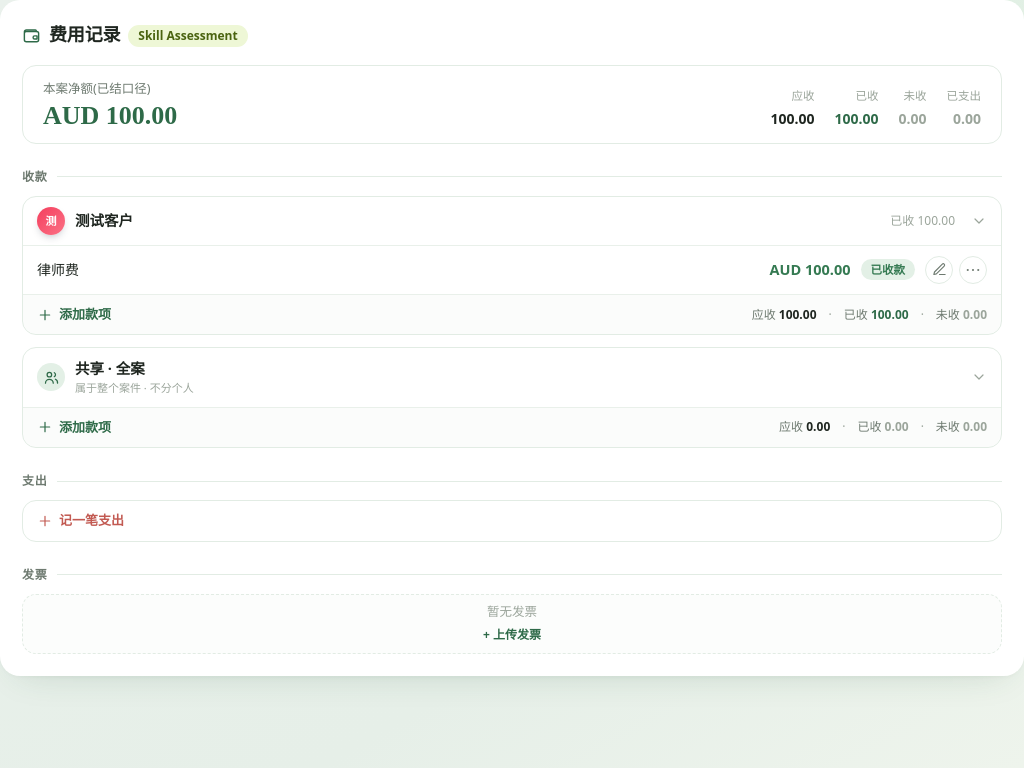
Test: CaseFeesCard（费用记录 · 极简行 + 悬停显操作 + ⋯ 菜单） › 收款明细走 ⋯ 菜单展开/收起逐笔收款列表（不再有行首 chevron）
Check: the text "本案净额(已结口径)" is shown, box [43,80,150,97]
Check: the text "2026-05-01" is not shown
Click the button named "款项操作". click: click(973, 270)
box: [959,256,987,284]
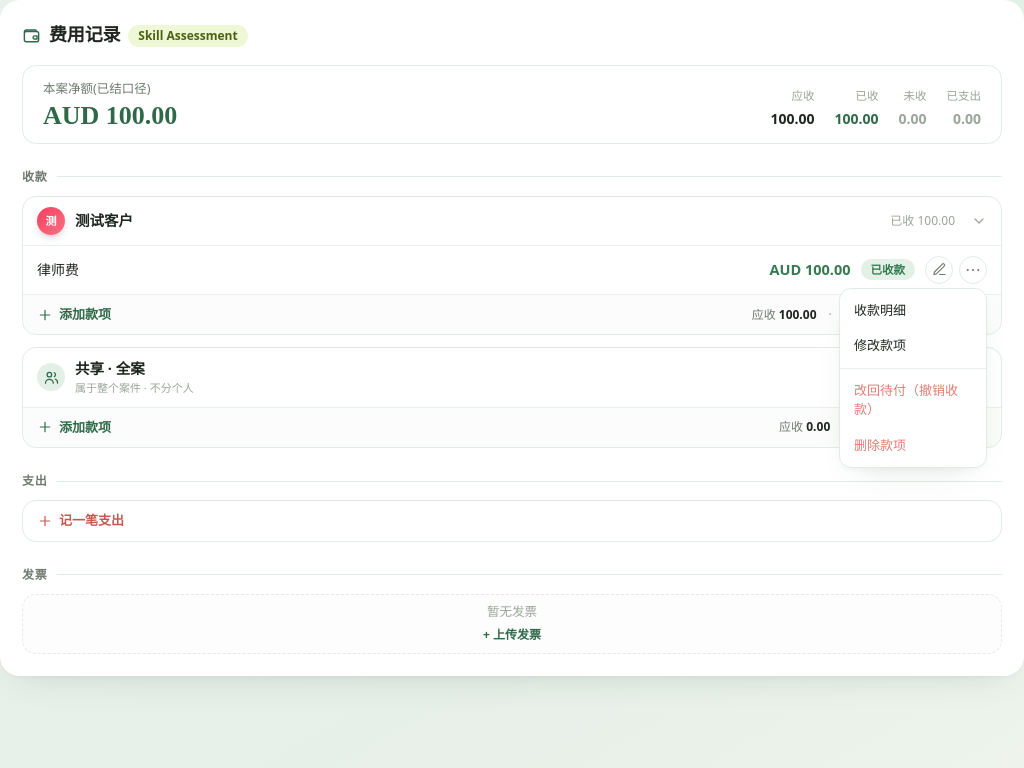
Click the menu item "收款明细". click: click(913, 311)
box: [840,293,986,328]
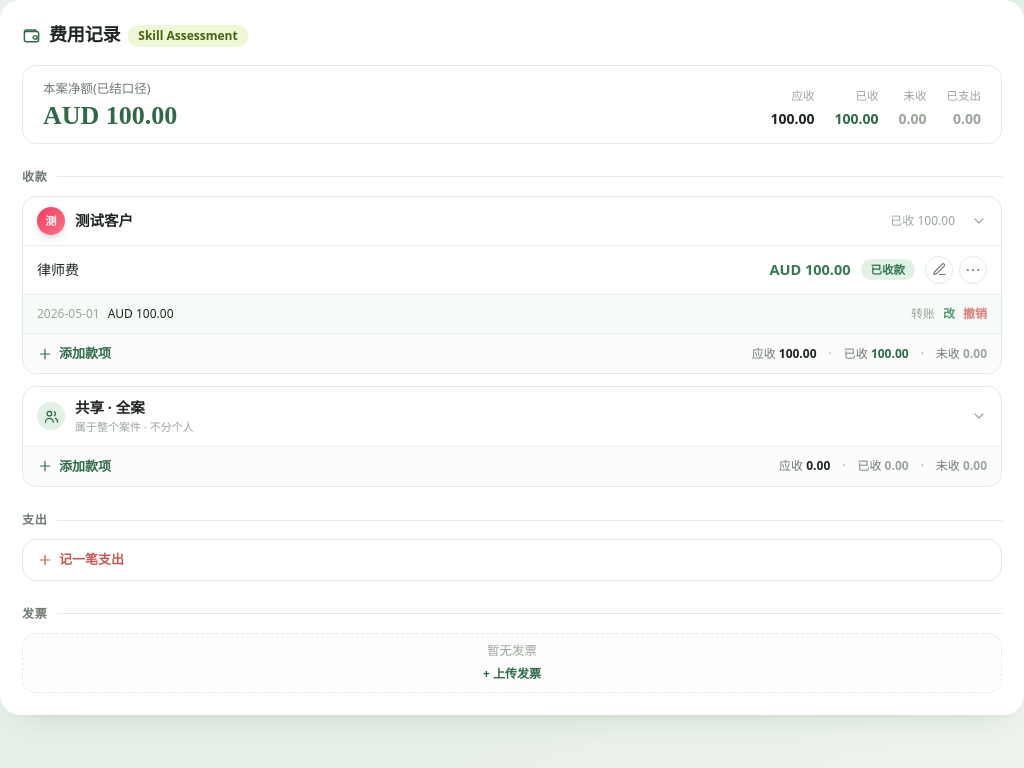
Check: the text "2026-05-01" is shown, box [37,305,100,323]
Click the button named "款项操作". click: click(973, 270)
box: [959,256,987,284]
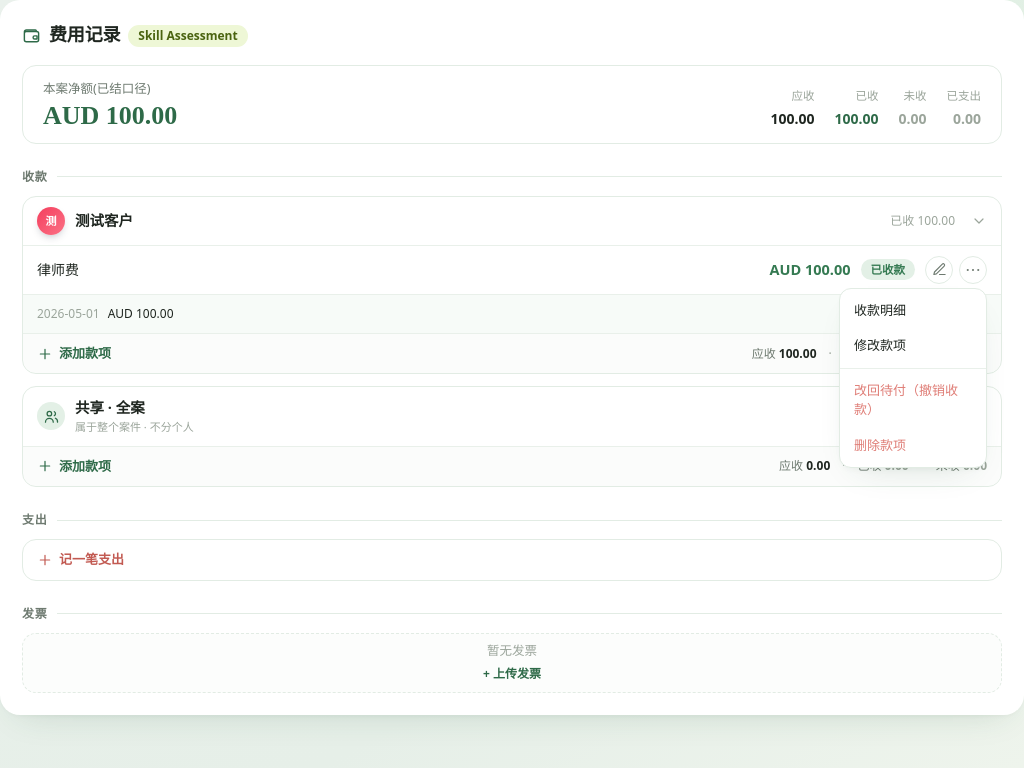
Click the menu item "收款明细". click: click(913, 311)
box: [840,293,986,328]
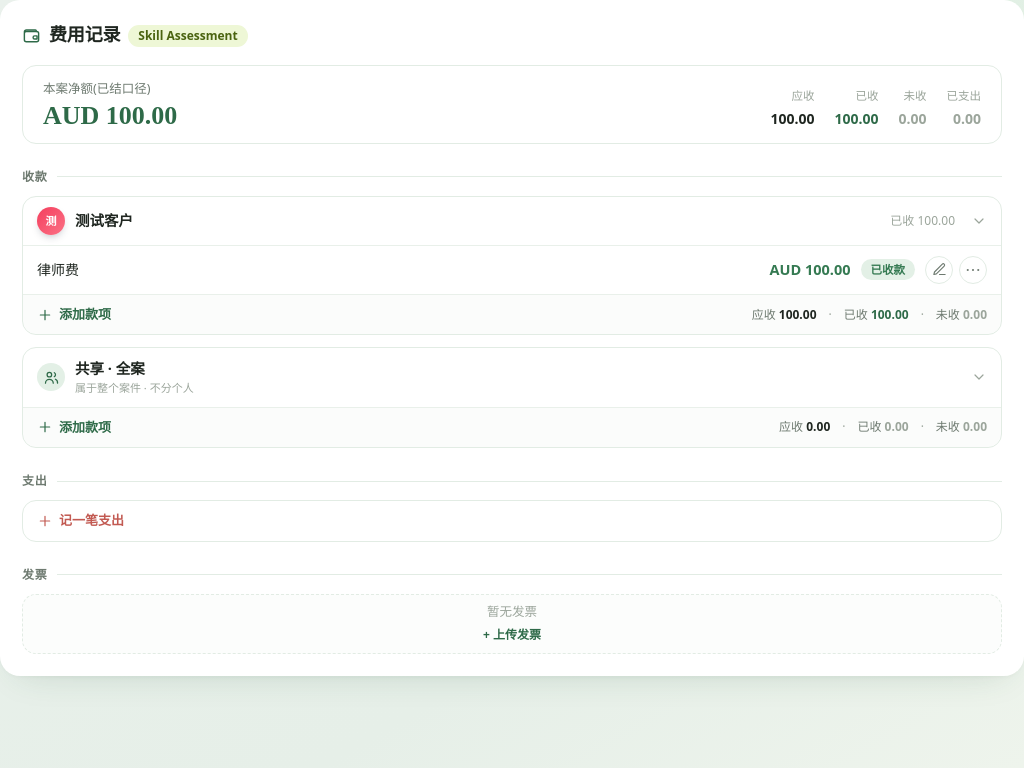
Check: the text "2026-05-01" is gone
